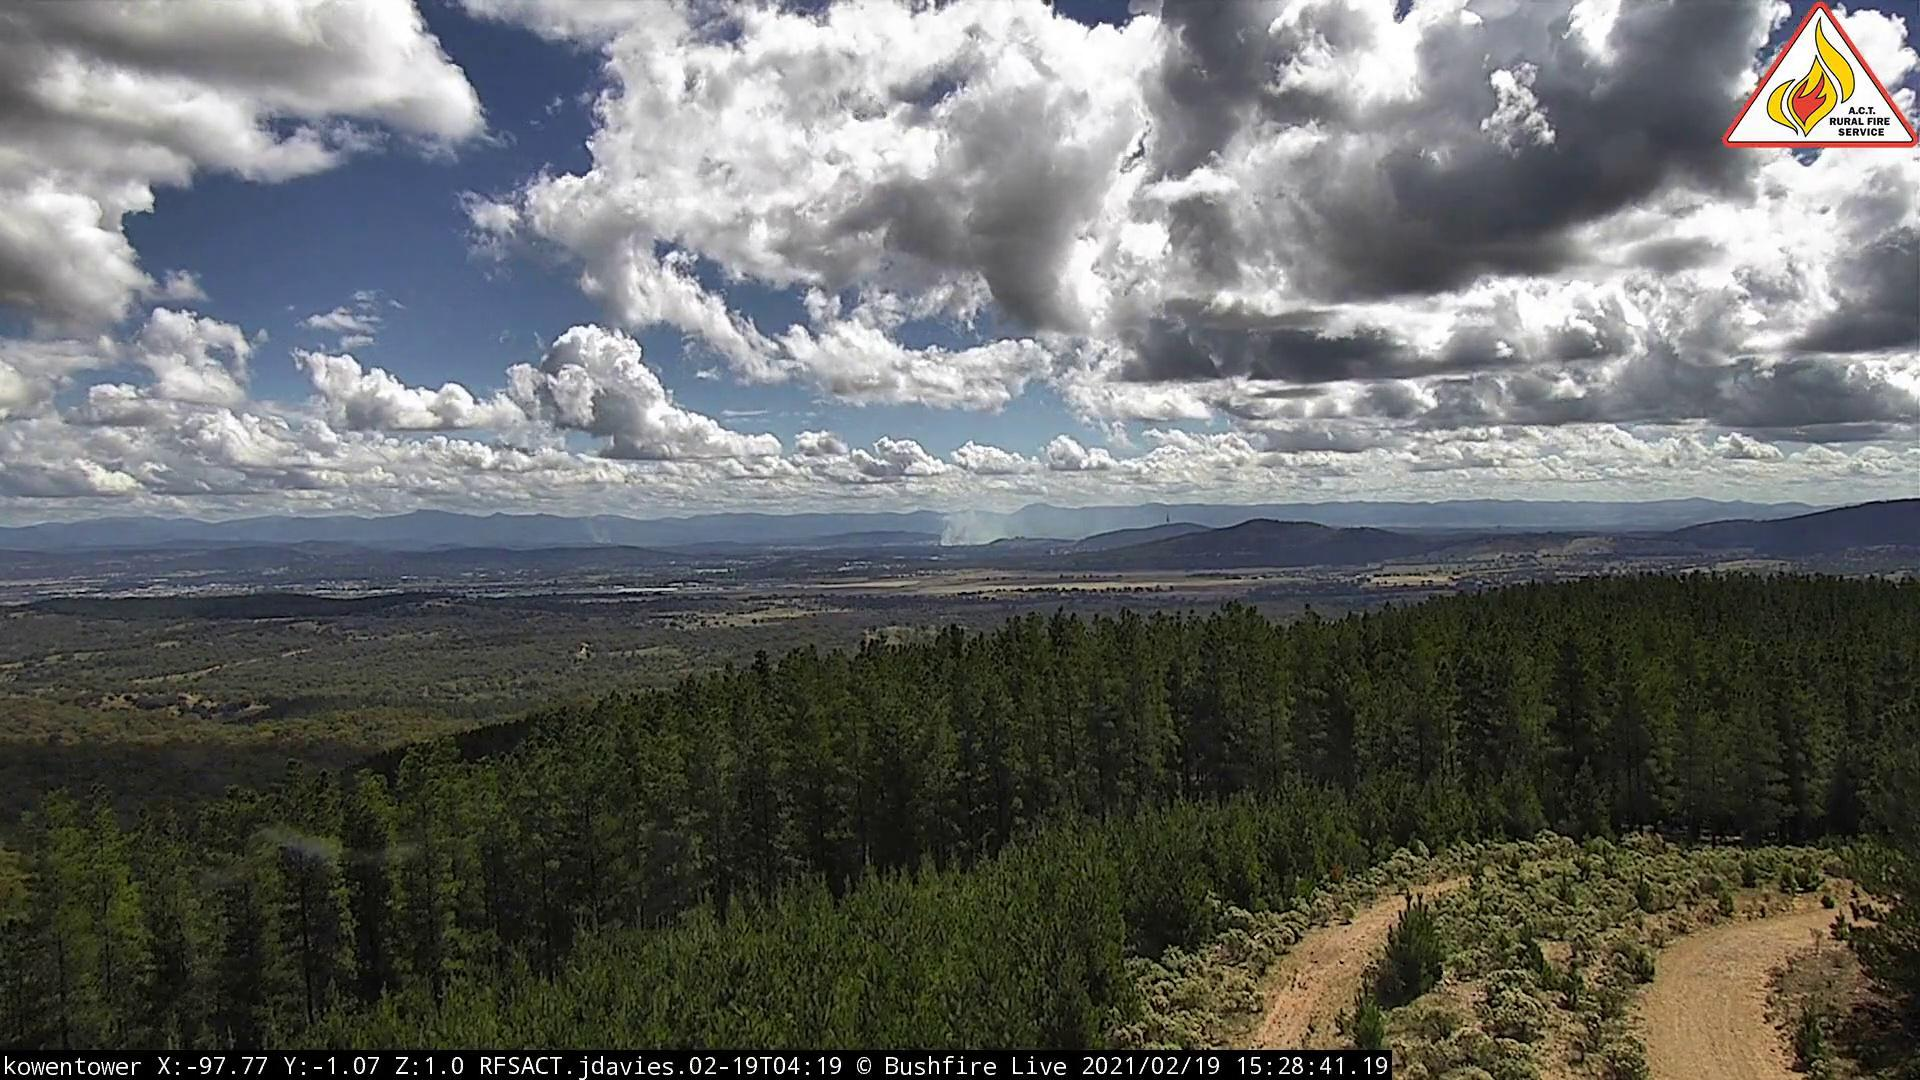instance_salient_object: (938, 502, 1031, 554), (592, 531, 622, 553)
